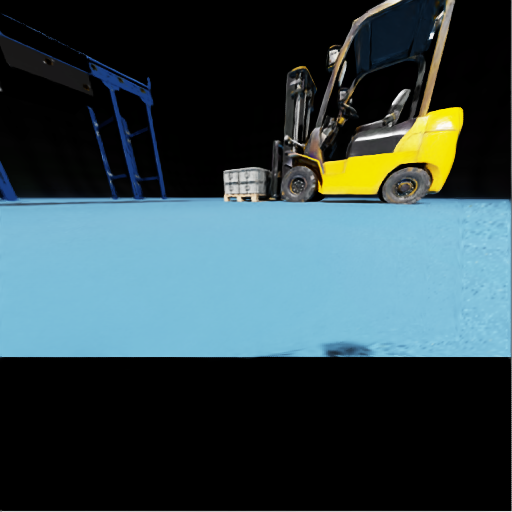transportation_area: (239, 181, 263, 193), (265, 182, 270, 193)
